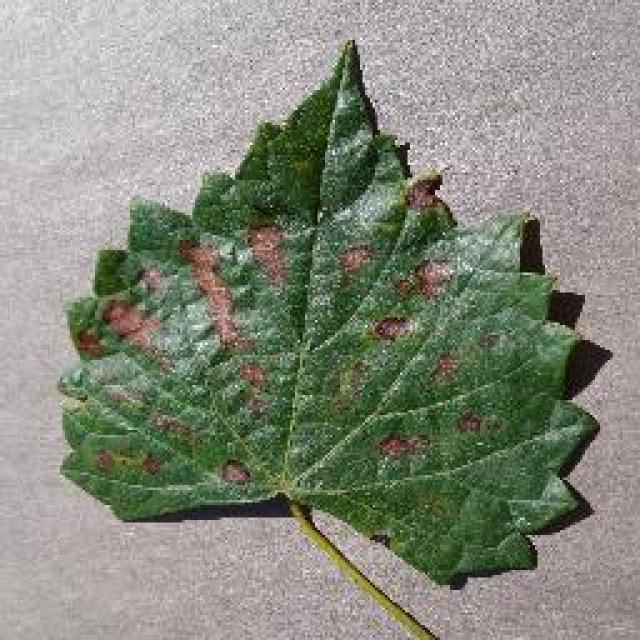Gra_Esca_Black_Measles: (181, 220, 295, 355), (332, 232, 457, 342), (76, 262, 182, 378), (93, 404, 185, 481), (431, 346, 494, 440), (375, 407, 440, 478), (228, 362, 282, 416), (206, 439, 262, 485), (397, 168, 442, 214)
